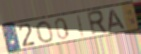0: (54, 17, 71, 41)
2: (19, 23, 38, 49)
A: (108, 9, 127, 33)
I: (75, 13, 85, 38)
O: (35, 20, 55, 44)
R: (86, 10, 110, 38)
